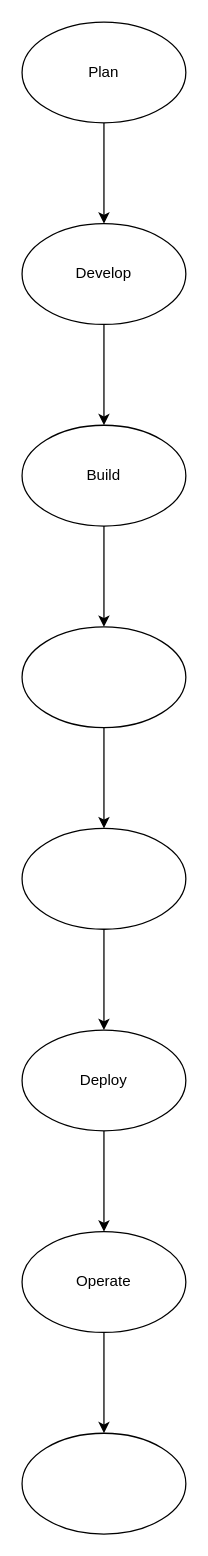
This 208x1556 diagram has some shape labels left out. Here are the shapes that lost their labels. From the top down, the centre of each, then its label:
At (x=103, y=677): "Test".
At (x=103, y=878): "Relase".
